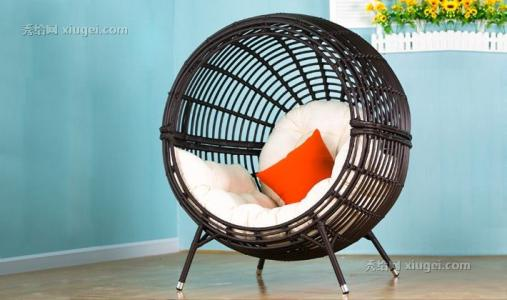ImgView: (1, 1, 506, 299)
